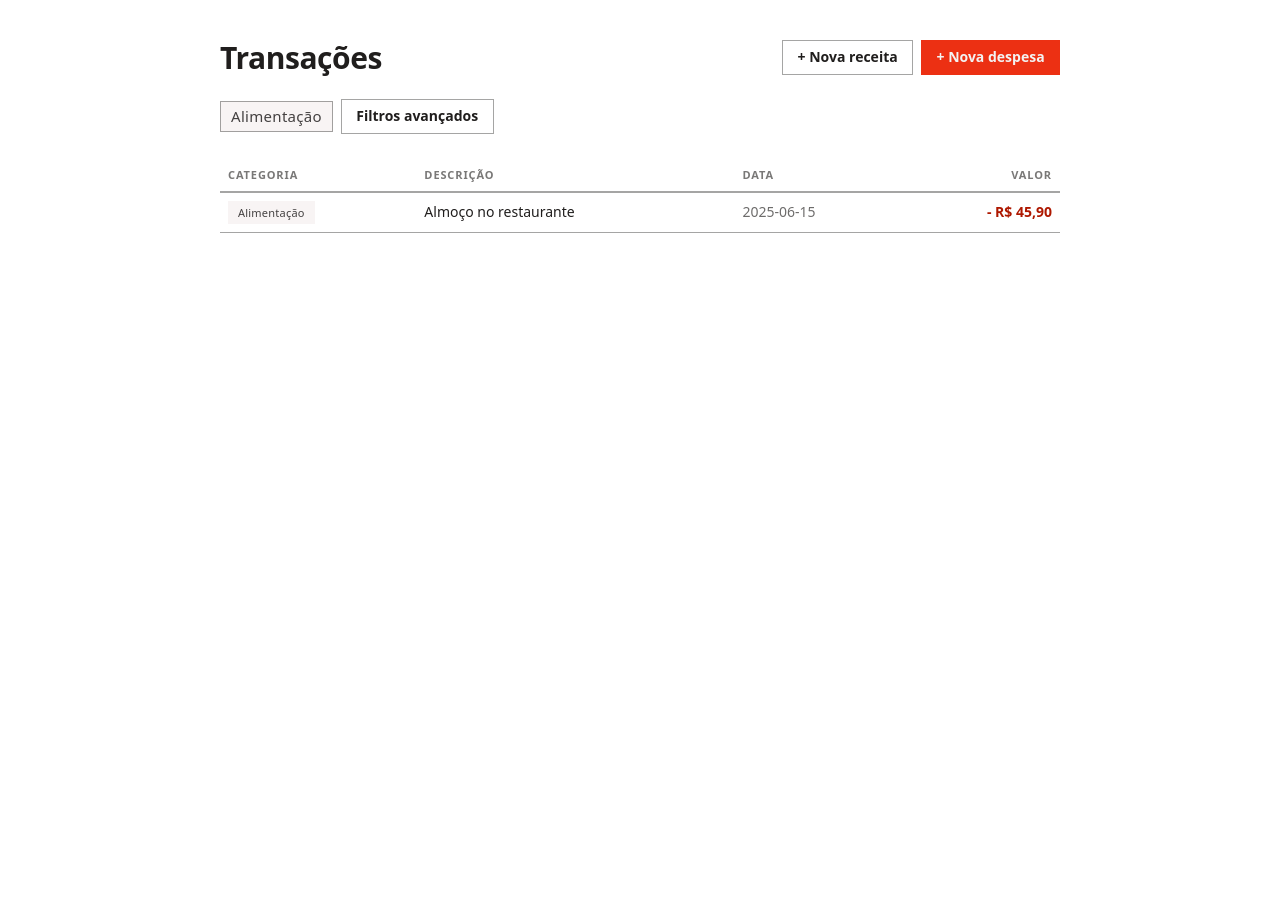
Test: TransactionsListPage › "Editar" no detalhe abre o popup de edição pré-preenchido (FEAT-20)
Click the text "Almoço no restaurante".
click(575, 212)  # box [416,192,734,232]
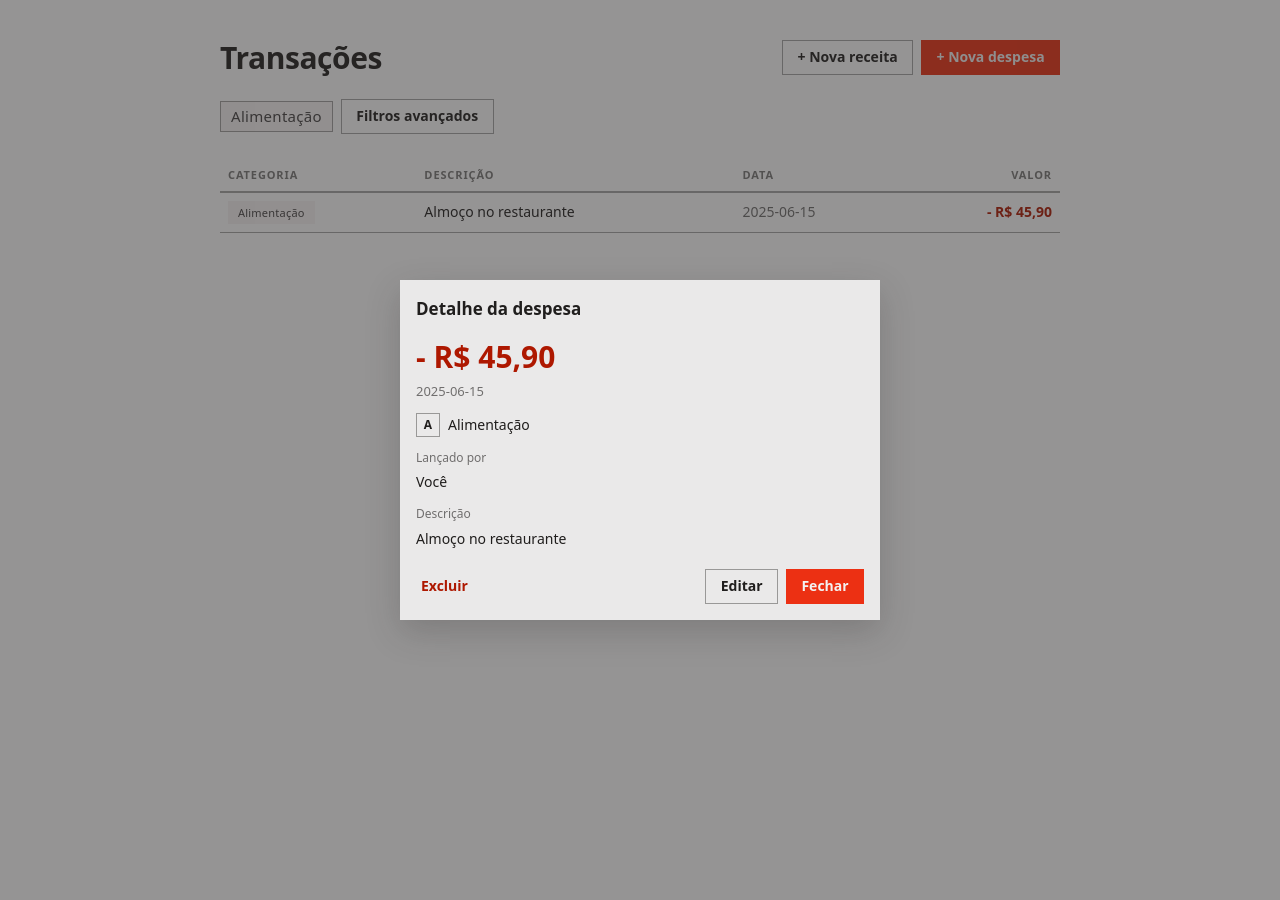
Now the text "Detalhe da despesa" is shown, box [416,297,581,320]
Click the button "Editar".
click(742, 587)  # box [705,569,778,604]
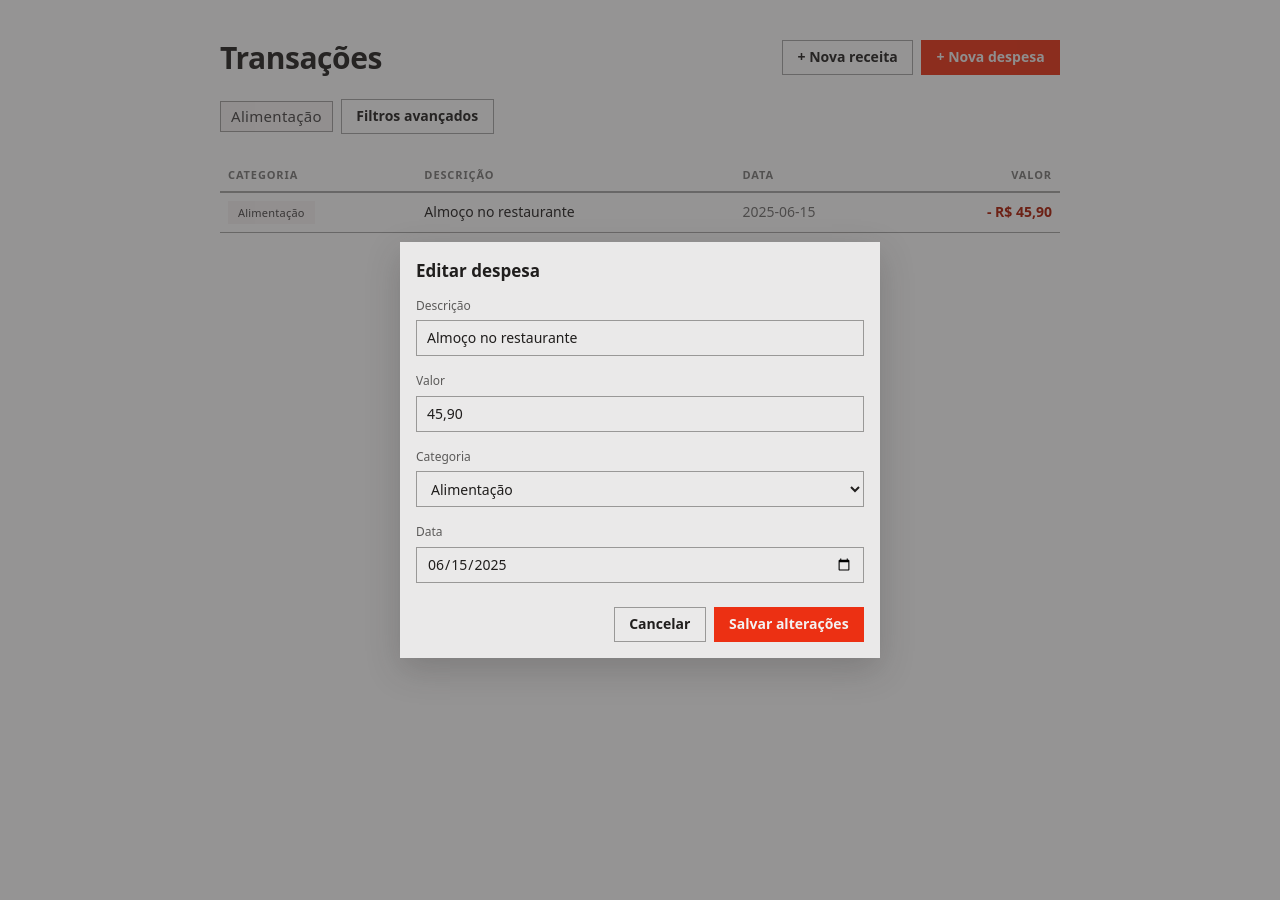
Now the text "Editar despesa" is shown, box [416,259,540,282]
Now the field labelled "Descrição" holds "Almoço no restaurante", box [416,320,864,356]
